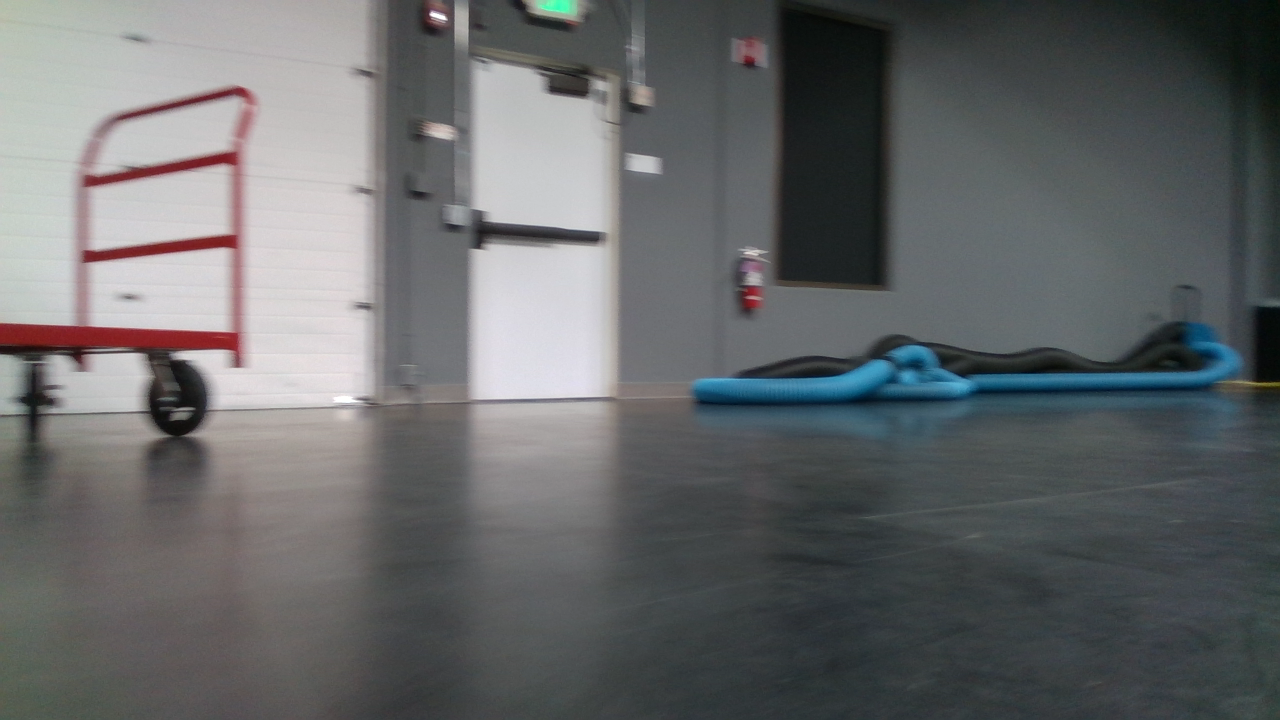Dolly: (0, 87, 257, 439)
Wheel: (143, 355, 211, 438), (20, 358, 54, 436)
